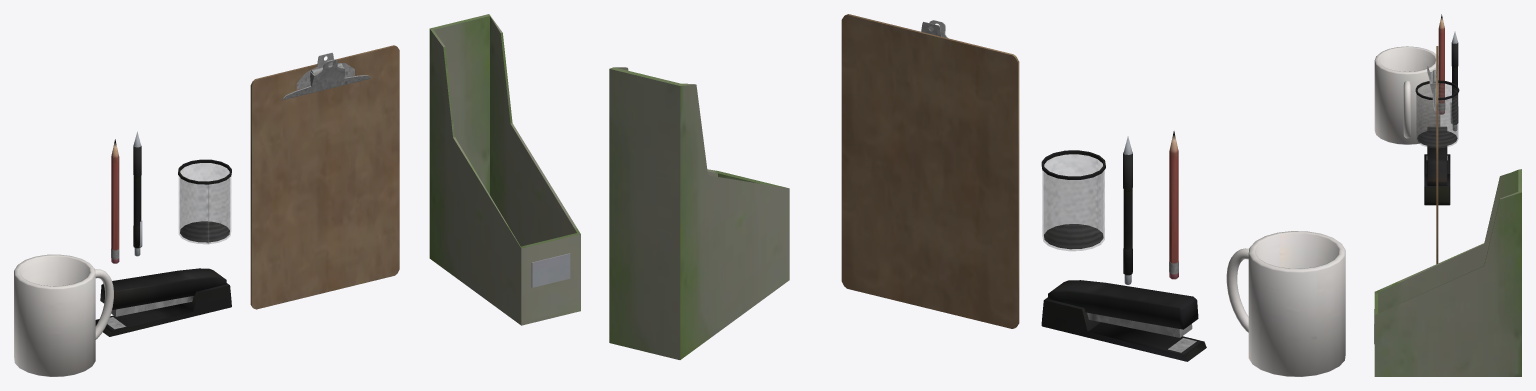
File: office_supplies_pack.glb
The picture shows the model from 3 angles, left to right: view 1: azimuth 30°, elevation 25°; view 2: azimuth 150°, elevation 25°; view 3: azimuth 270°, elevation 25°; orthographic projection. The views are drawn at different scales.
Parts seen in each view (by area): view 1: Cube_4, Cube.003_6, Cylinder.002_5, Cube.001_2, Cylinder_3, Cone.001_1, Cone_0; view 2: Cube_4, Cube.003_6, Cylinder.002_5, Cube.001_2, Cylinder_3, Cone_0, Cone.001_1; view 3: Cube.003_6, Cylinder.002_5, Cylinder_3, Cube.001_2, Cube_4, Cone.001_1, Cone_0.
Part boxes in pixels (x1,y1,x2,y2): Cube_4: [250, 45, 399, 309]; Cube.003_6: [429, 14, 580, 325]; Cylinder.002_5: [14, 254, 113, 376]; Cube.001_2: [95, 268, 231, 336]; Cylinder_3: [178, 159, 231, 244]; Cone.001_1: [133, 131, 142, 256]; Cone_0: [111, 139, 119, 263]; Cube_4: [841, 14, 1019, 328]; Cube.003_6: [609, 67, 789, 359]; Cylinder.002_5: [1226, 231, 1345, 376]; Cube.001_2: [1041, 280, 1206, 361]; Cylinder_3: [1041, 150, 1105, 250]; Cone_0: [1169, 131, 1178, 279]; Cone.001_1: [1123, 136, 1132, 284]; Cube.003_6: [1374, 169, 1521, 376]; Cylinder.002_5: [1374, 46, 1440, 144]; Cylinder_3: [1415, 80, 1459, 147]; Cube.001_2: [1424, 126, 1450, 205]; Cube_4: [1427, 46, 1438, 263]; Cone.001_1: [1450, 31, 1458, 130]; Cone_0: [1438, 14, 1445, 114].
Size of the model in its own units: 0.8012 by 0.3984 by 0.2363.
1 material, 1 textured.
